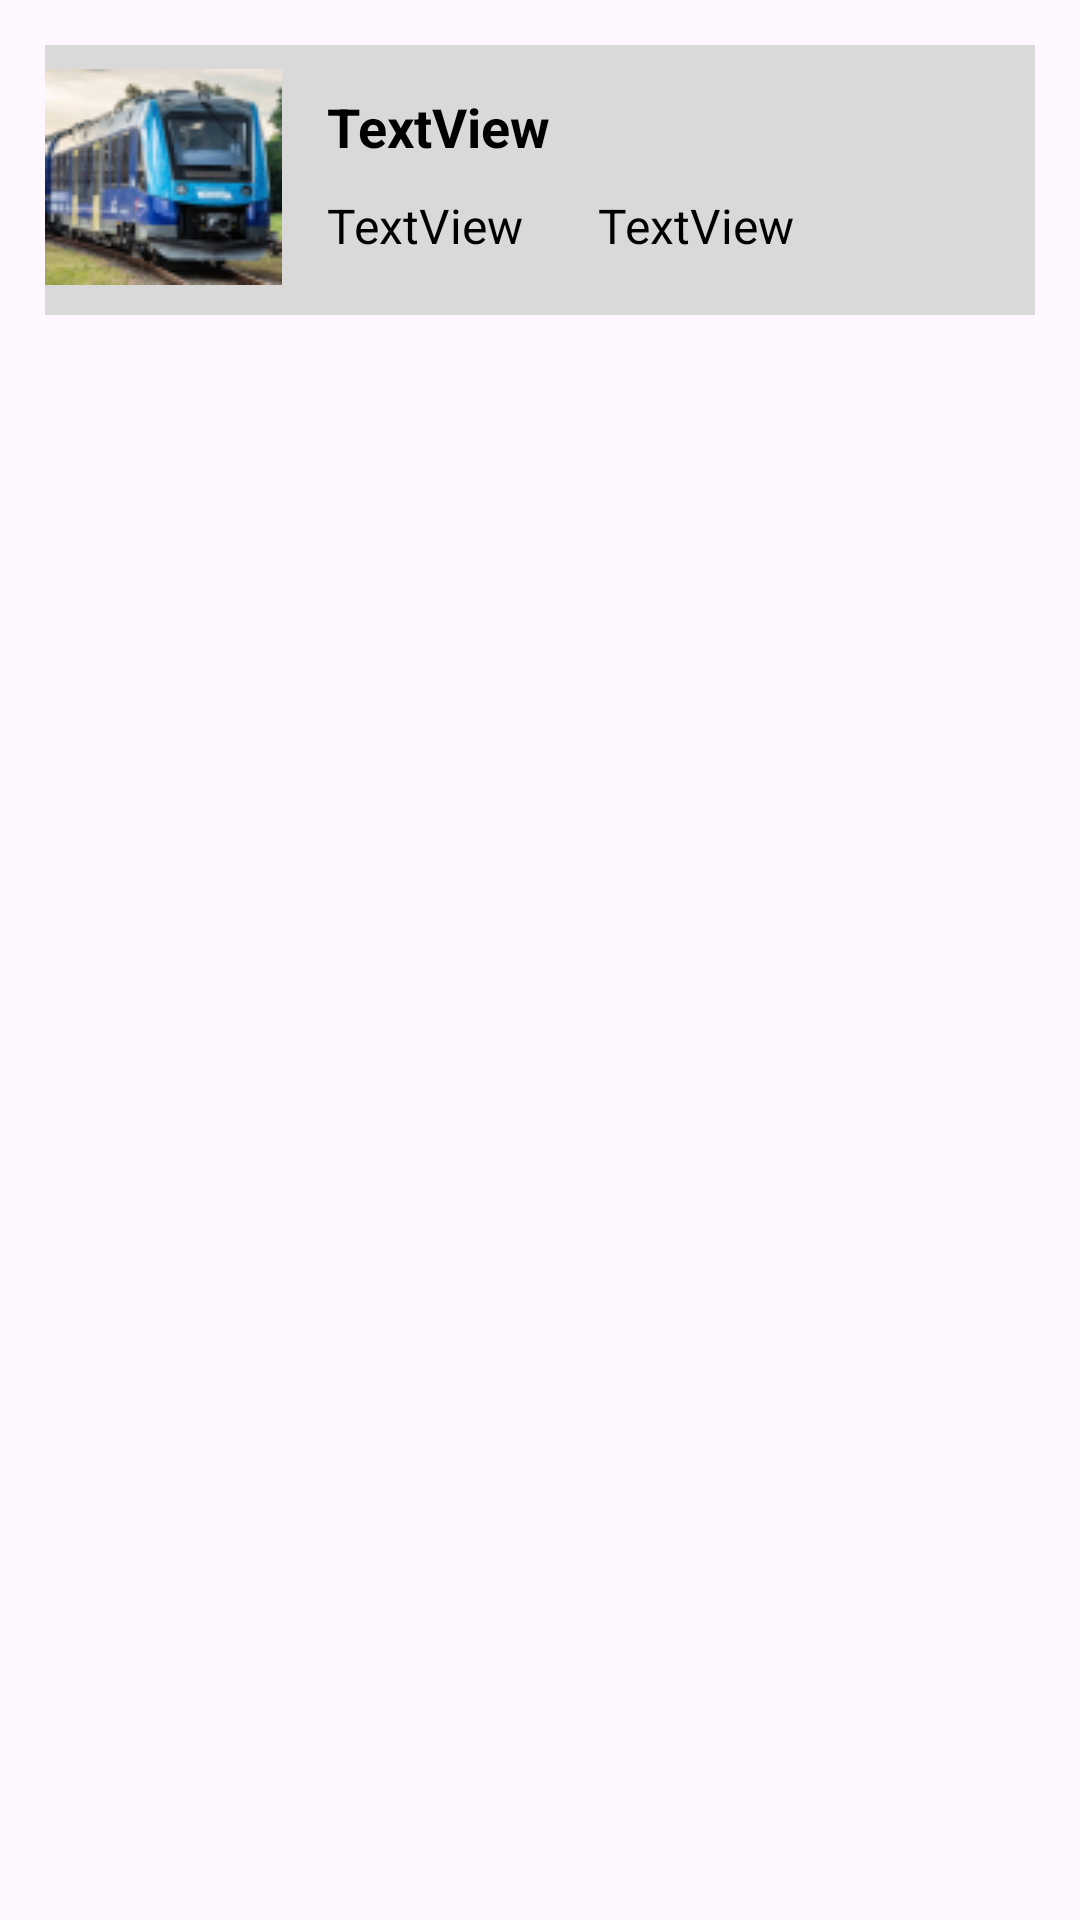

Where to tap for icons on this 1080px×1920px app screen, as (x,y):
train: (163,177)
